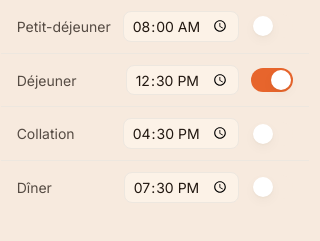
Test: MealRemindersSection › en cas d'echec, revient au dernier etat enregistre (pas a un instantane perime)
Expected: the time field named "Heure du dîner" is shown, [124,172,239,203]
Click the switch named "Rappel dîner" at (272, 187), box [251,175,293,199]
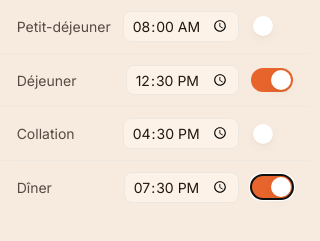
Click the switch named "Rappel collation" at (272, 134), box [251,122,293,146]
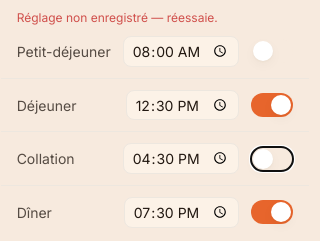
Expected: the text "Réglage non enregistré — réessaie." is shown, [17,10,218,25]
